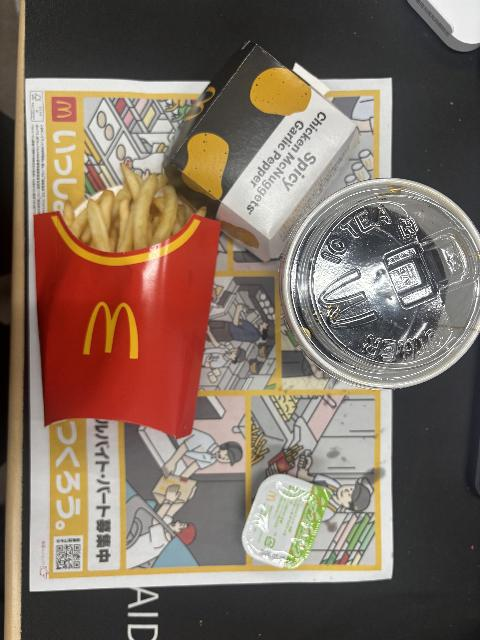drink: (283, 177, 480, 390)
fries: (27, 159, 221, 440)
nuggets: (156, 35, 354, 263)
sauce: (241, 469, 332, 569)
